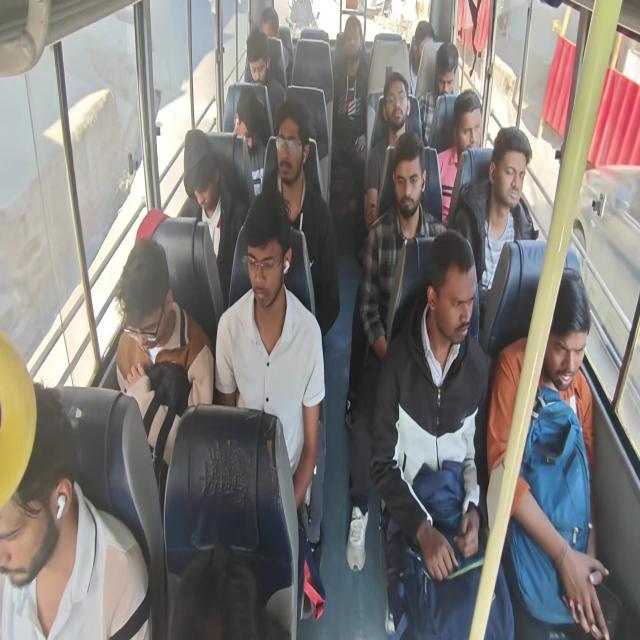person: (0, 372, 73, 596), (116, 247, 170, 376), (542, 294, 588, 386), (246, 212, 286, 305), (178, 139, 224, 219), (432, 258, 474, 344), (395, 146, 427, 236), (496, 137, 526, 215), (274, 109, 305, 183), (380, 77, 414, 132), (226, 95, 255, 145), (456, 102, 481, 154), (342, 18, 367, 63), (243, 42, 267, 88), (433, 49, 453, 93), (415, 24, 433, 64), (259, 10, 279, 42)
